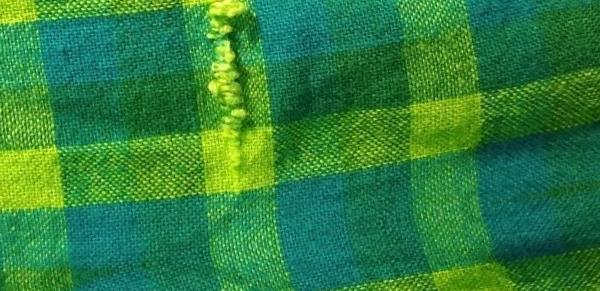knot: (202, 2, 260, 190)
